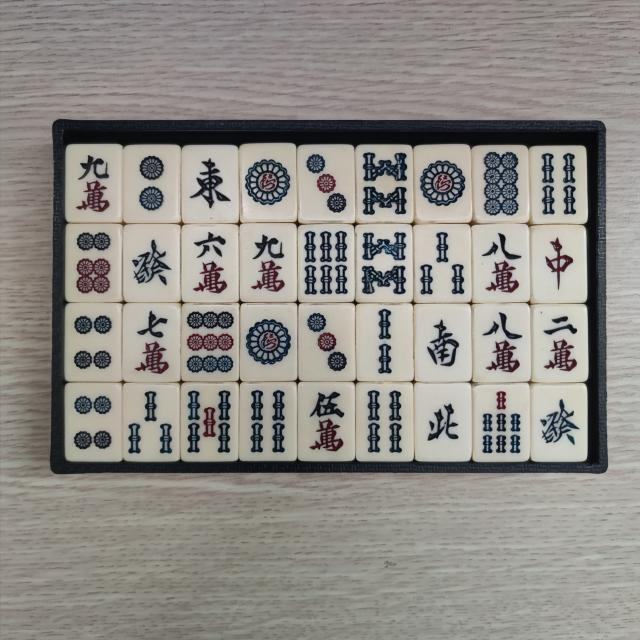hdg: (537, 390, 583, 458), (128, 232, 174, 299)
hdr: (537, 232, 582, 300)
hwe: (187, 150, 235, 218)
hwn: (420, 389, 466, 457)
hws: (418, 307, 466, 377)
sb2: (362, 307, 409, 378)
sb3: (418, 230, 469, 300), (128, 386, 174, 456)
sb4: (362, 387, 410, 458), (245, 388, 292, 458), (536, 150, 582, 220)
sb5: (186, 385, 234, 455)
sb6: (304, 228, 352, 296)
sb7: (477, 388, 524, 458)
sb8: (360, 228, 410, 298), (362, 150, 409, 220)
sc2: (539, 310, 584, 378)
sc5: (302, 388, 350, 458)
sc6: (188, 228, 232, 298)
sc7: (129, 307, 175, 377)
sc8: (478, 310, 526, 380), (477, 228, 525, 296)
sc9: (244, 228, 290, 296), (71, 150, 116, 218)
sd1: (245, 308, 295, 378), (244, 148, 294, 218), (419, 150, 469, 218)
sd2: (130, 150, 174, 218)
sd3: (304, 150, 352, 220), (305, 310, 353, 378)
sd4: (71, 310, 117, 378), (72, 389, 118, 456)
sd6: (72, 229, 116, 298)
sd8: (478, 150, 524, 217)
sd9: (184, 312, 234, 379)
